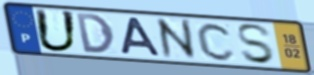A: (119, 16, 163, 58)
C: (195, 21, 238, 63)
D: (74, 12, 117, 55)
N: (153, 16, 200, 60)
S: (235, 23, 278, 66)
U: (33, 7, 80, 54)
